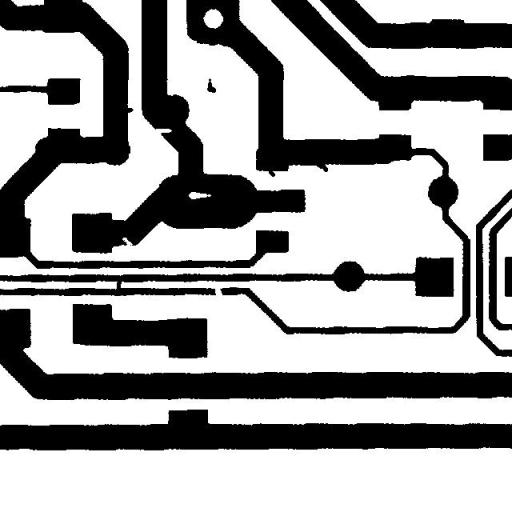copper: (199, 70, 223, 100)
mousebite: (147, 120, 179, 142), (114, 230, 140, 255)
open: (207, 278, 230, 304)
pin-hole: (181, 184, 218, 206)
short: (109, 273, 129, 300)
spur: (306, 153, 335, 179), (117, 100, 141, 121), (261, 161, 282, 184)
